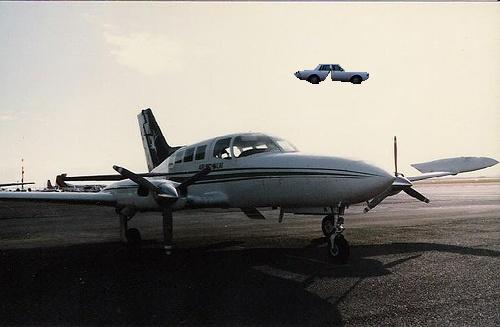tampered: (295, 65, 369, 84)
